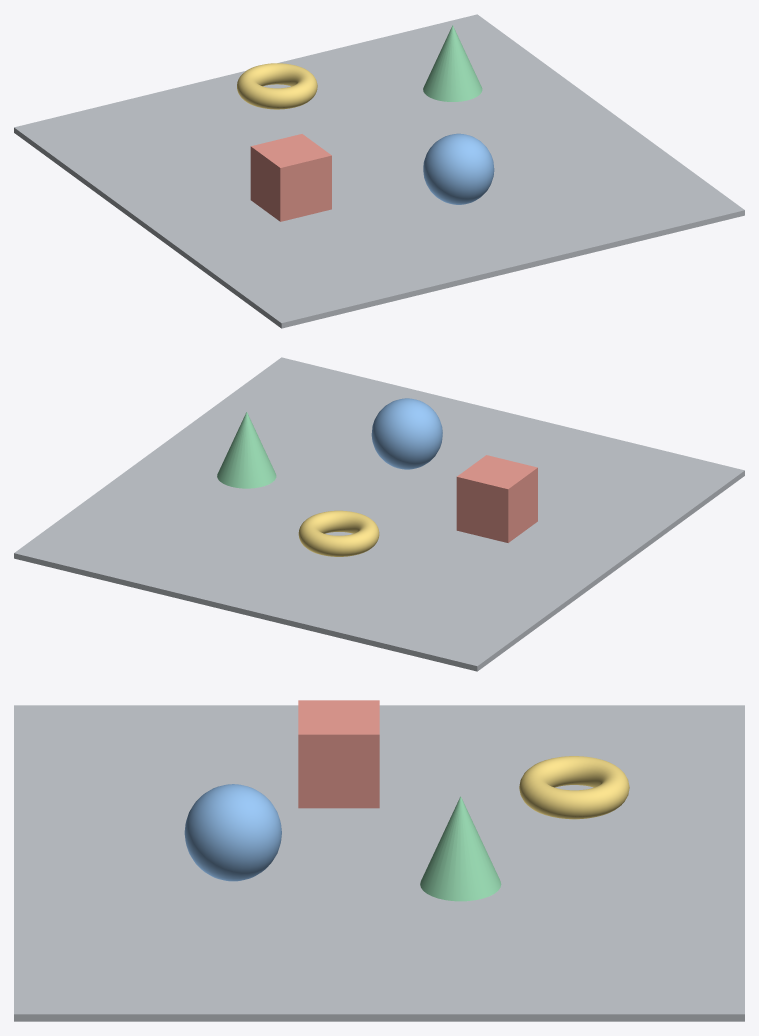
File: stage.gltf
3 views of the same model, one above another, from view 1: azimuth 30°, elevation 25°; view 2: azimuth 150°, elevation 25°; view 3: azimuth 270°, elevation 25° (orthographic). The views are drawn at different scales.
Visible parts, largest first — view 1: floor, cube, sphere, torus, cone; view 2: floor, cube, sphere, torus, cone; view 3: floor, cube, sphere, torus, cone.
Part boxes in pixels (bbox=[...]): floor: bbox=[14, 14, 744, 328]; cube: bbox=[250, 134, 331, 221]; sphere: bbox=[423, 133, 494, 204]; torus: bbox=[237, 63, 317, 109]; cone: bbox=[423, 25, 482, 101]; floor: bbox=[14, 357, 744, 671]; cube: bbox=[456, 455, 537, 542]; sphere: bbox=[371, 398, 442, 469]; torus: bbox=[298, 510, 379, 556]; cone: bbox=[217, 412, 276, 488]; floor: bbox=[14, 705, 744, 1021]; cube: bbox=[298, 700, 379, 808]; sphere: bbox=[184, 784, 281, 881]; torus: bbox=[519, 756, 629, 819]; cone: bbox=[420, 796, 501, 901].
Bounding box in the file's own units: 9 × 1.9 × 9.
